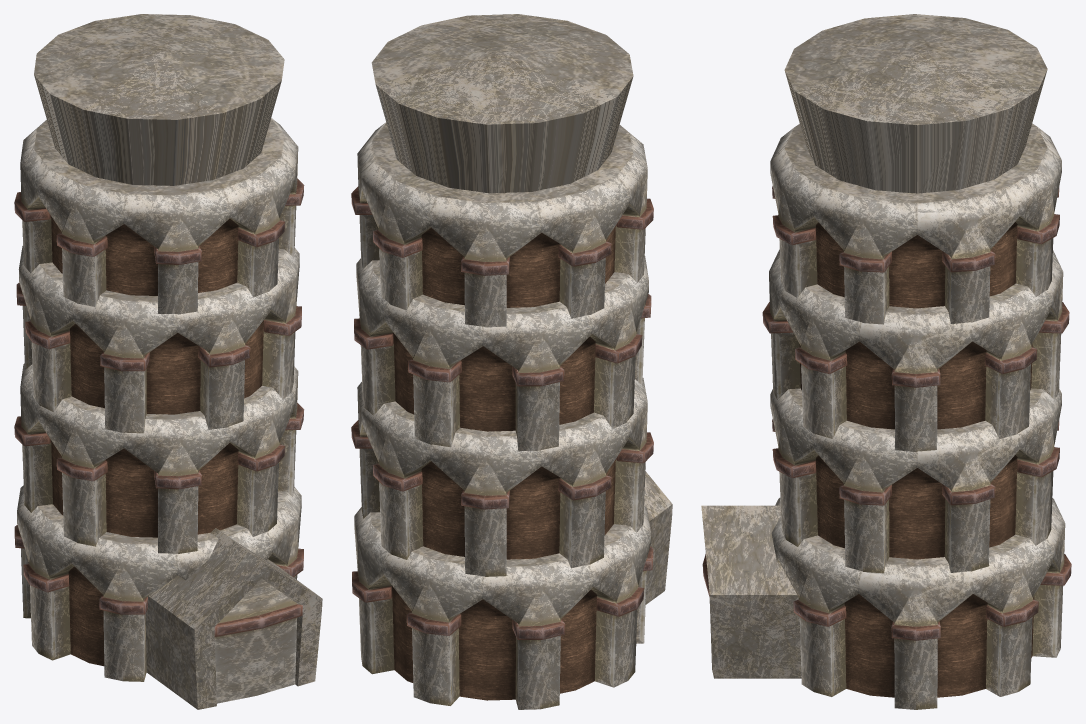
File: LeaningTower.fbx
3 renders of one model, left to right at view 1: azimuth 30°, elevation 25°; view 2: azimuth 150°, elevation 25°; view 3: azimuth 270°, elevation 25°, orthographic. The views are drawn at different scales.
Visible parts, largest first — view 1: NVleaningtowerofGas4, NVleaningtowerofGas3, NVleaningtowerofGas1, NVleaningtowerofGas2, NVleaningtowerofGas5, NVleaningtowerofGasEnt; view 2: NVleaningtowerofGas5, NVleaningtowerofGas4, NVleaningtowerofGas3, NVleaningtowerofGas1, NVleaningtowerofGas2, NVleaningtowerofGasEnt; view 3: NVleaningtowerofGas5, NVleaningtowerofGas4, NVleaningtowerofGas3, NVleaningtowerofGas2, NVleaningtowerofGas1, NVleaningtowerofGasEnt.
Part boxes in pixels (left/top/right/bottom): NVleaningtowerofGas4: left=34, top=14, right=284, bottom=185; NVleaningtowerofGas3: left=14, top=118, right=304, bottom=314; NVleaningtowerofGas1: left=14, top=363, right=304, bottom=553; NVleaningtowerofGas2: left=16, top=246, right=301, bottom=433; NVleaningtowerofGas5: left=14, top=485, right=303, bottom=681; NVleaningtowerofGasEnt: left=145, top=528, right=322, bottom=709; NVleaningtowerofGas5: left=352, top=505, right=653, bottom=709; NVleaningtowerofGas4: left=371, top=14, right=633, bottom=193; NVleaningtowerofGas3: left=351, top=122, right=653, bottom=327; NVleaningtowerofGas1: left=351, top=378, right=653, bottom=576; NVleaningtowerofGas2: left=354, top=256, right=651, bottom=451; NVleaningtowerofGasEnt: left=644, top=471, right=672, bottom=604; NVleaningtowerofGas5: left=771, top=498, right=1071, bottom=709; NVleaningtowerofGas4: left=784, top=14, right=1047, bottom=193; NVleaningtowerofGas3: left=770, top=123, right=1061, bottom=324; NVleaningtowerofGas2: left=762, top=249, right=1069, bottom=451; NVleaningtowerofGas1: left=770, top=388, right=1061, bottom=573; NVleaningtowerofGasEnt: left=701, top=505, right=801, bottom=678.
Size of the model in its own units: 2.09 by 4.4 by 2.48.
